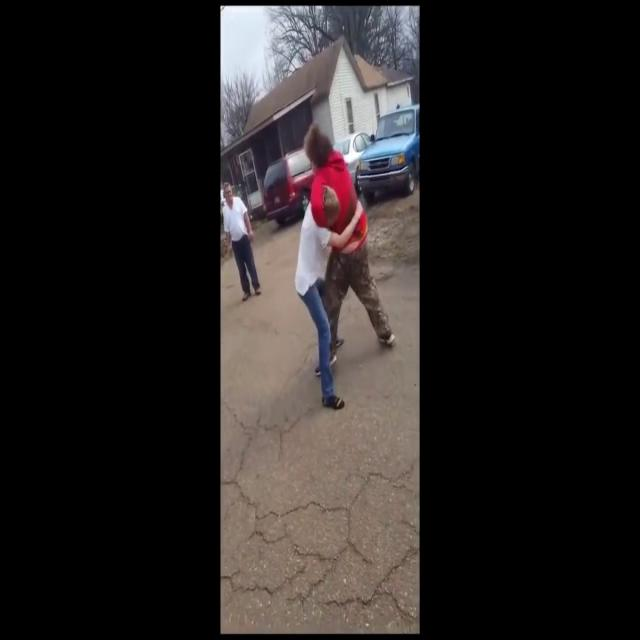non_violence: (221, 182, 262, 298)
violence: (293, 124, 368, 328)
